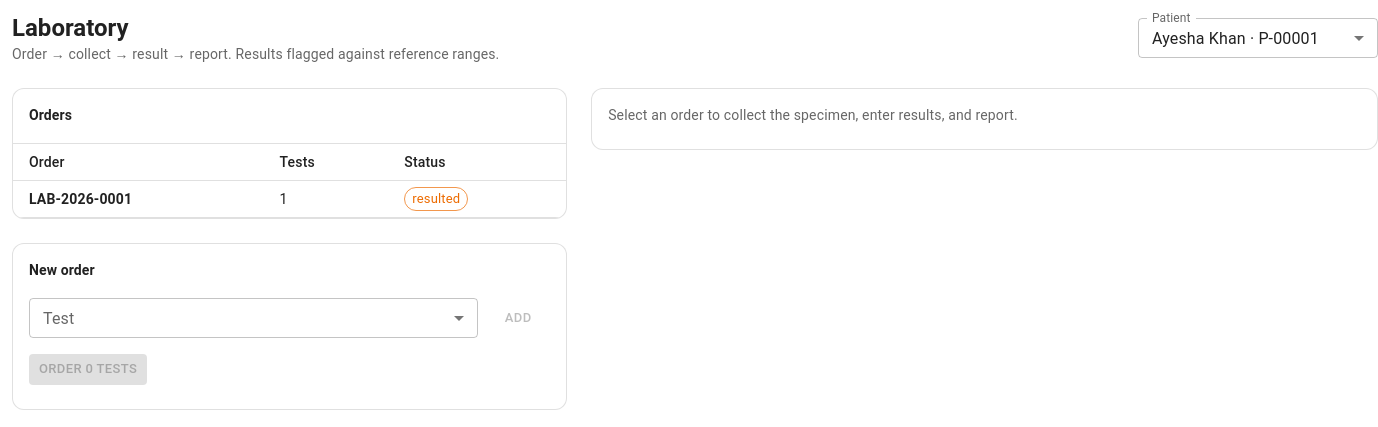
Test: the flag the server sent is the flag on the screen › shows an out-of-range haemoglobin as LOW beside its number
Click the text "LAB-2026-0001" at {"x": 138, "y": 199}, box 13,180 -> 264,218
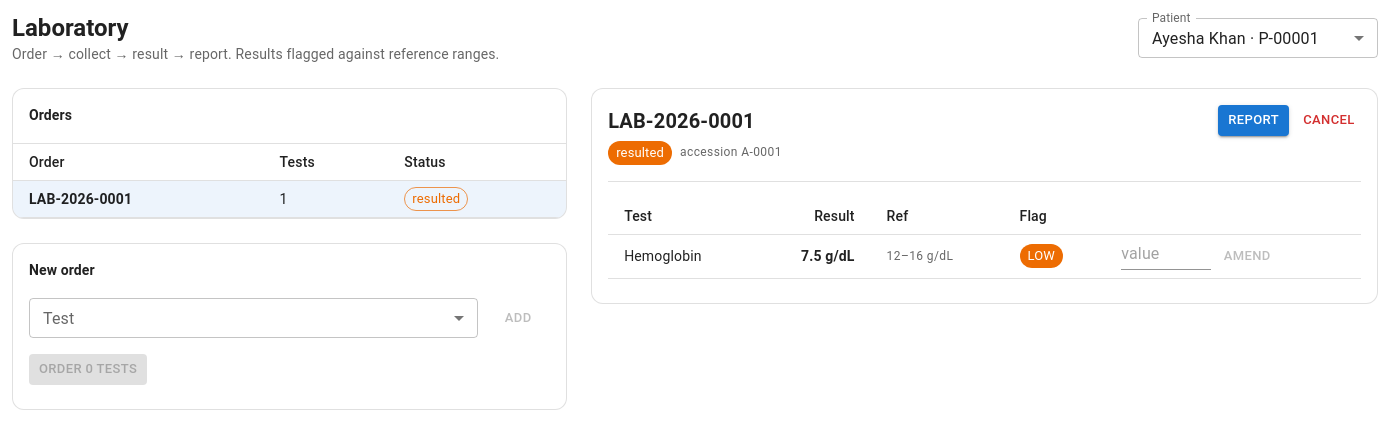
Now the heading "LAB-2026-0001" is shown, box 608,109 -> 755,133
Now the text "7.5 g/dL" is shown, box 756,234 -> 871,278
Now the text "LOW" is shown, box 1028,248 -> 1055,263
